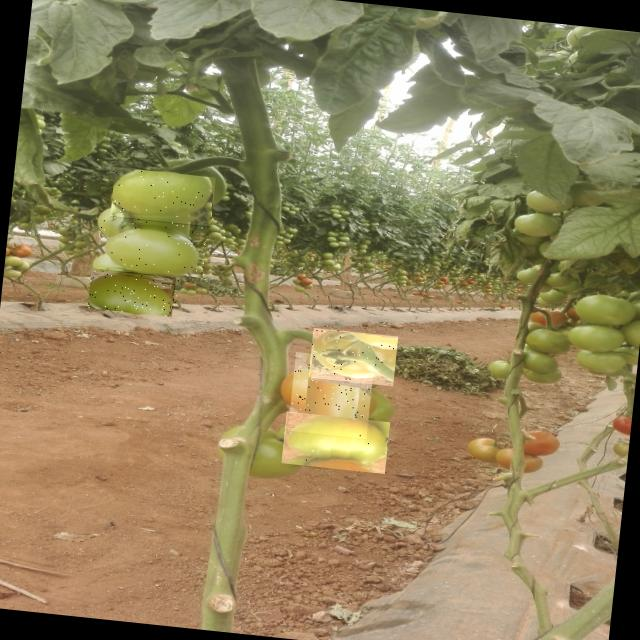Unripe Tomato: (287, 352, 374, 438), (281, 411, 390, 474), (110, 168, 216, 230), (95, 220, 207, 278), (308, 327, 398, 386), (88, 268, 180, 317)
